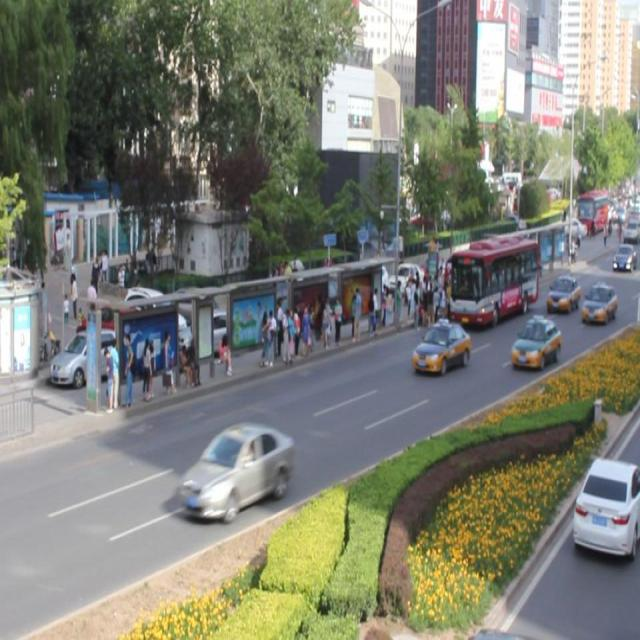car: (180, 419, 292, 522), (411, 321, 469, 374), (510, 315, 560, 369), (580, 283, 616, 324), (545, 275, 578, 314)
van: (447, 232, 538, 326)
